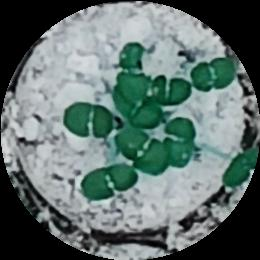Basil: (120, 125, 172, 177), (112, 86, 164, 131), (159, 118, 203, 167), (83, 165, 139, 200), (116, 42, 149, 95), (64, 103, 113, 138), (190, 55, 232, 93), (223, 145, 259, 185), (147, 73, 189, 105)
